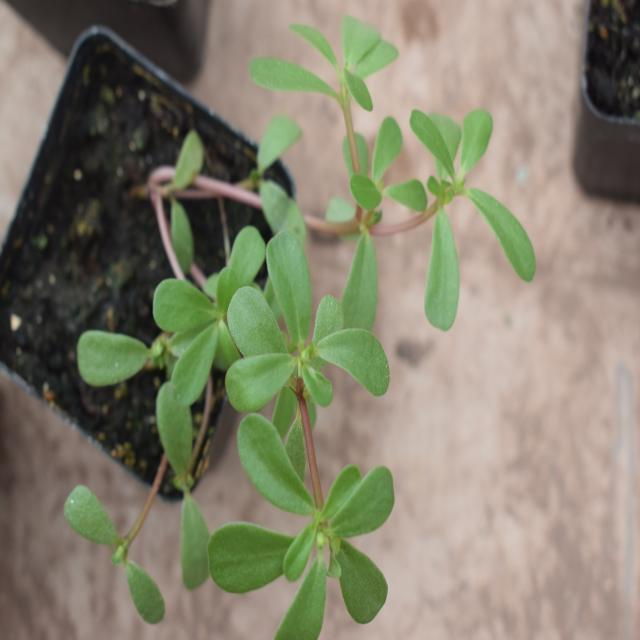purslane: (84, 236, 411, 638), (249, 10, 552, 335)
